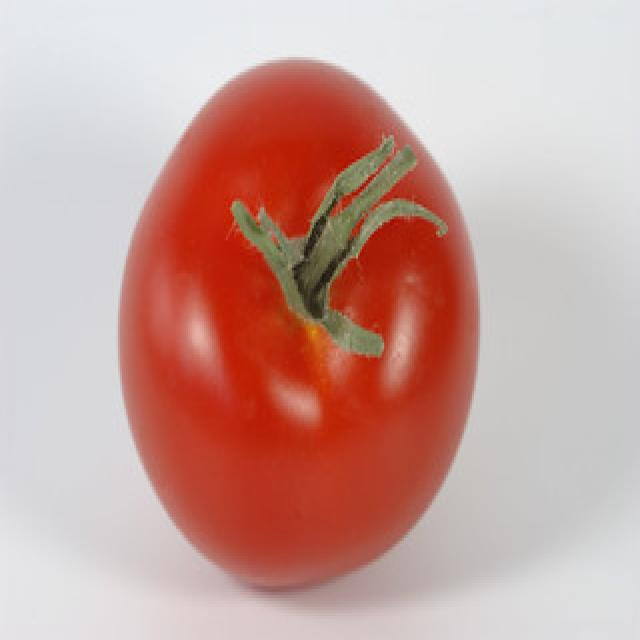Tomato: (107, 52, 492, 600)
